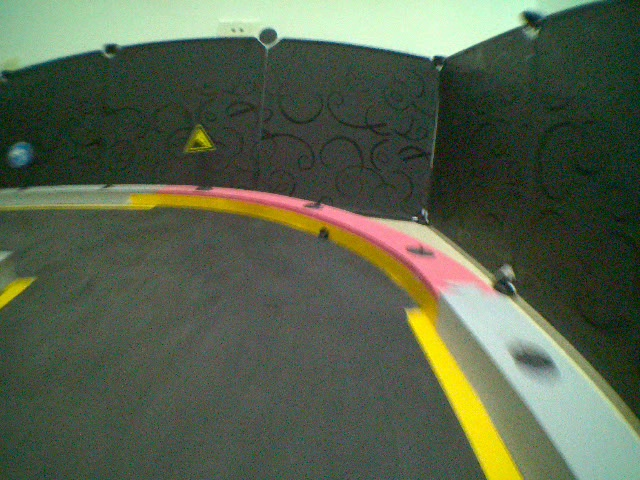fast: (182, 119, 214, 152)
